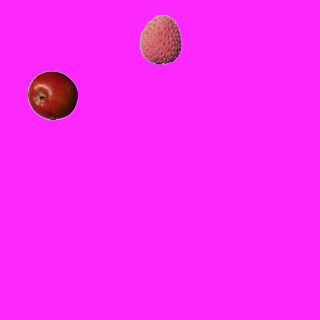Apple Braeburn: (27, 70, 77, 120)
Lychee: (135, 14, 185, 64)
